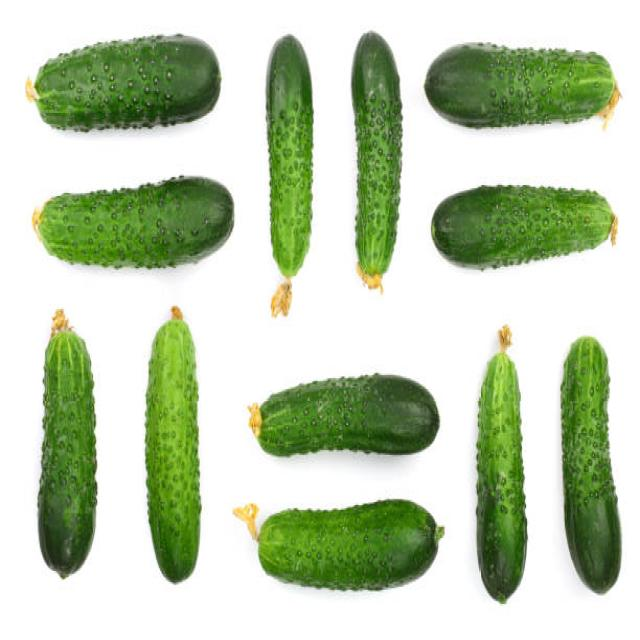cucumber: (38, 171, 235, 270), (36, 34, 219, 130), (424, 41, 612, 133), (258, 497, 436, 590), (560, 334, 623, 595), (432, 183, 616, 271), (256, 372, 440, 457), (37, 328, 98, 574), (145, 319, 201, 585), (475, 352, 529, 602), (350, 28, 402, 277), (267, 34, 314, 280)
